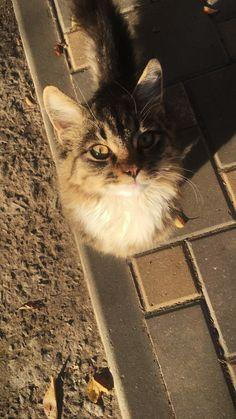kedo: (42, 0, 177, 258)
